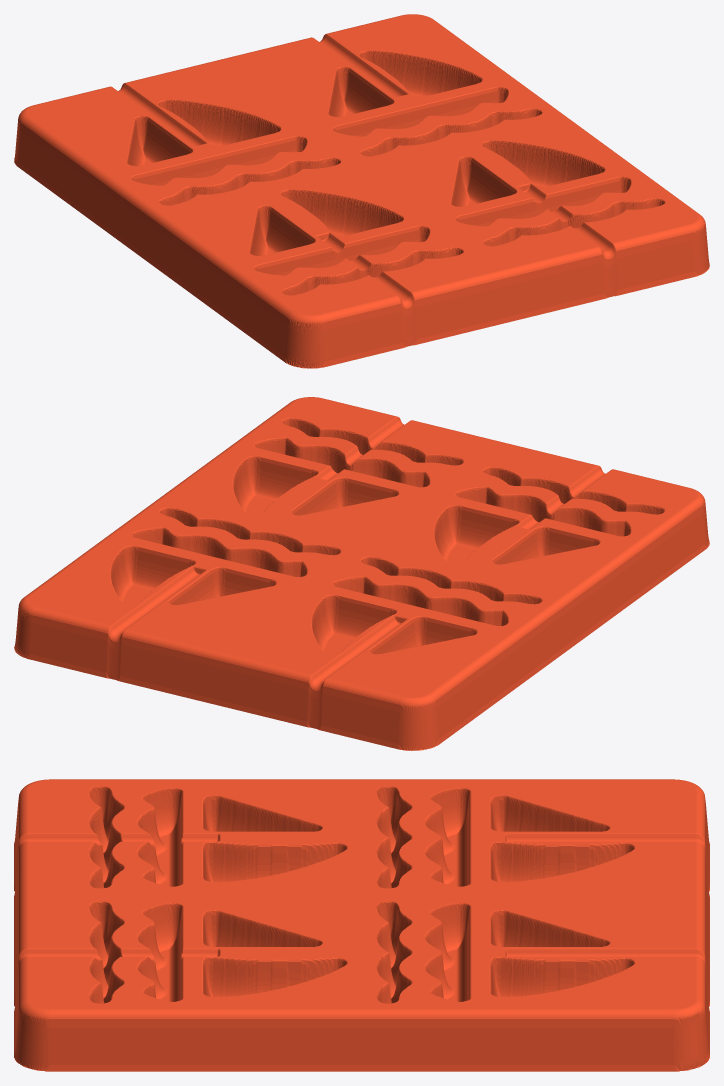
File: mold.glb
The picture shows the model from 3 angles, top to bottom: view 1: azimuth 30°, elevation 25°; view 2: azimuth 150°, elevation 25°; view 3: azimuth 270°, elevation 25°; orthographic projection. The views are drawn at different scales.
Parts seen in each view (by area): view 1: geometry_0; view 2: geometry_0; view 3: geometry_0.
Part boxes in pixels (x1,y1,x2,y2): geometry_0: (14,14,709,368); geometry_0: (14,397,709,750); geometry_0: (14,779,709,1071).
Size of the model in its own units: 0.1421 by 0.0155 by 0.1735.
